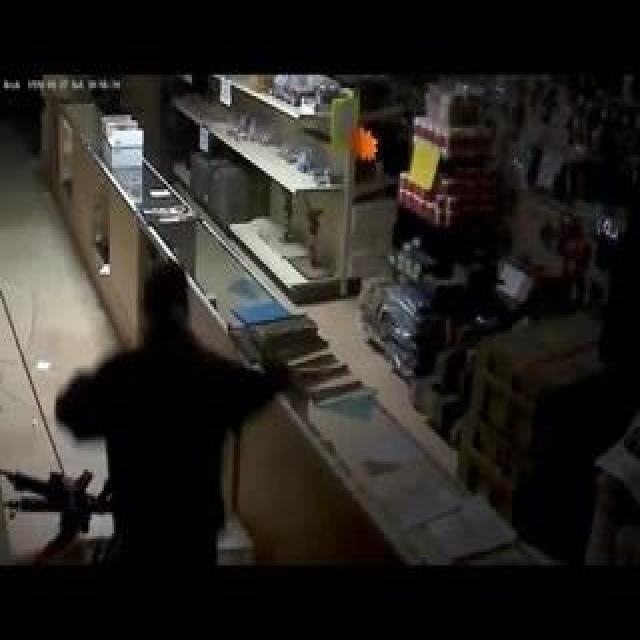thief: (119, 260, 219, 498)
